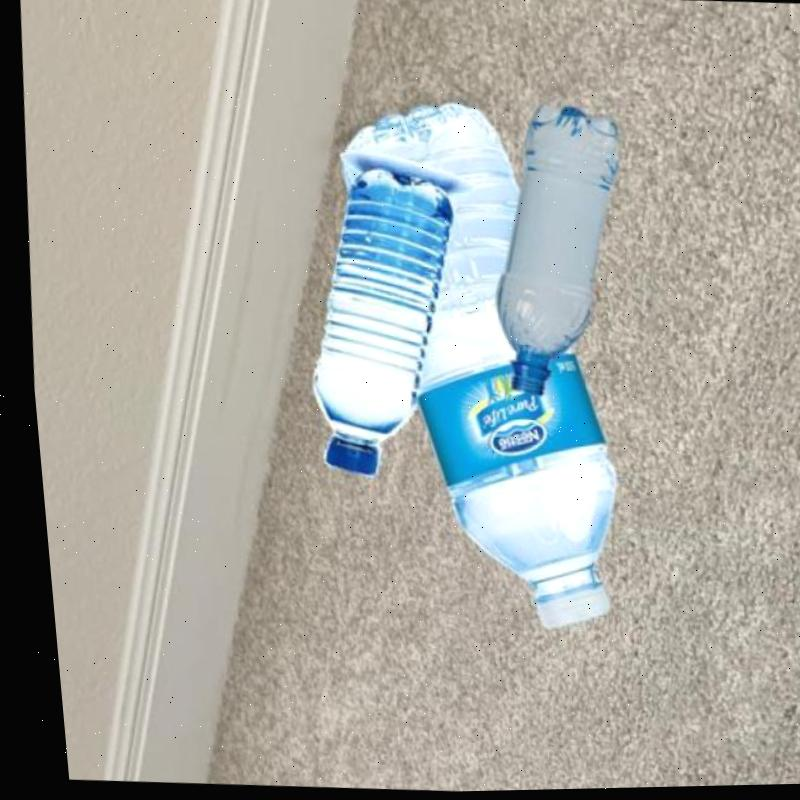botella: (300, 91, 653, 640), (285, 159, 473, 480), (474, 95, 636, 392)
